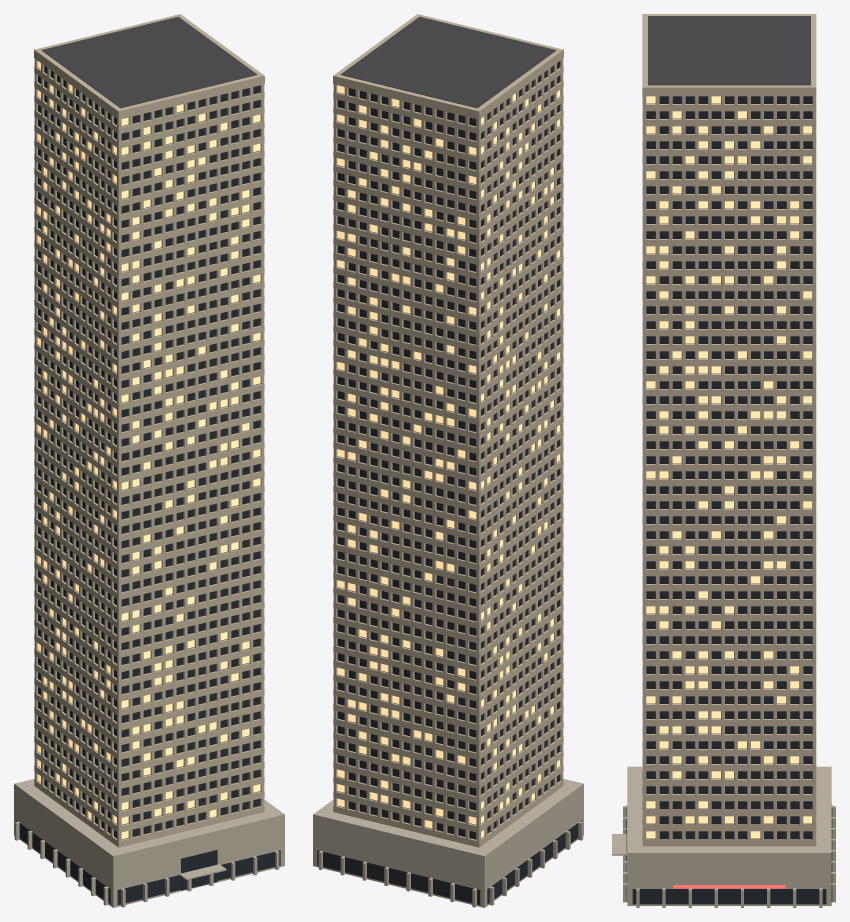
File: t_grid_beige_50.glb
The picture shows the model from 3 angles, left to right: view 1: azimuth 30°, elevation 25°; view 2: azimuth 150°, elevation 25°; view 3: azimuth 270°, elevation 25°; orthographic projection. The views are drawn at different scales.
Parts seen in each view (by area): view 1: t_grid_beige_50; view 2: t_grid_beige_50; view 3: t_grid_beige_50.
Part boxes in pixels (left/top/right/bottom): t_grid_beige_50: left=14, top=14, right=284, bottom=907; t_grid_beige_50: left=313, top=14, right=583, bottom=907; t_grid_beige_50: left=612, top=14, right=835, bottom=907.
Size of the model in its own units: 48.9 by 206 by 51.4.
